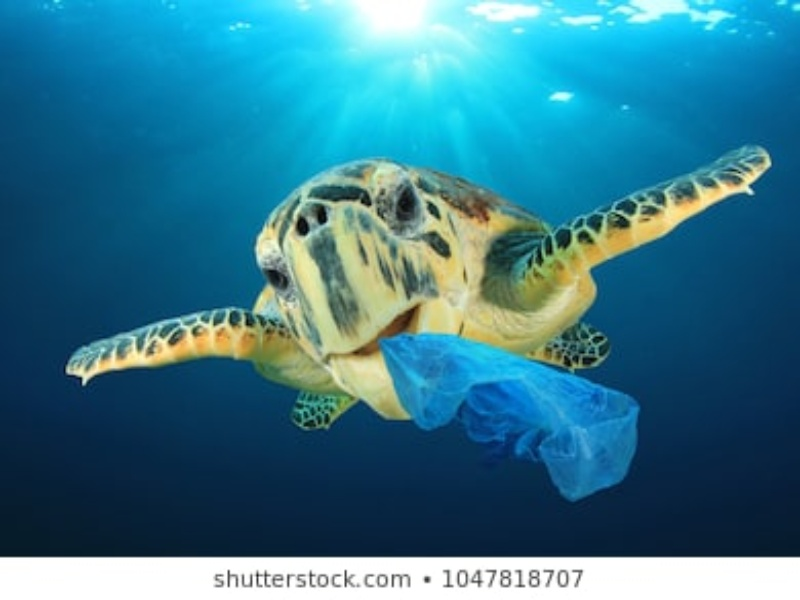plastic-bag: (378, 333, 640, 502)
